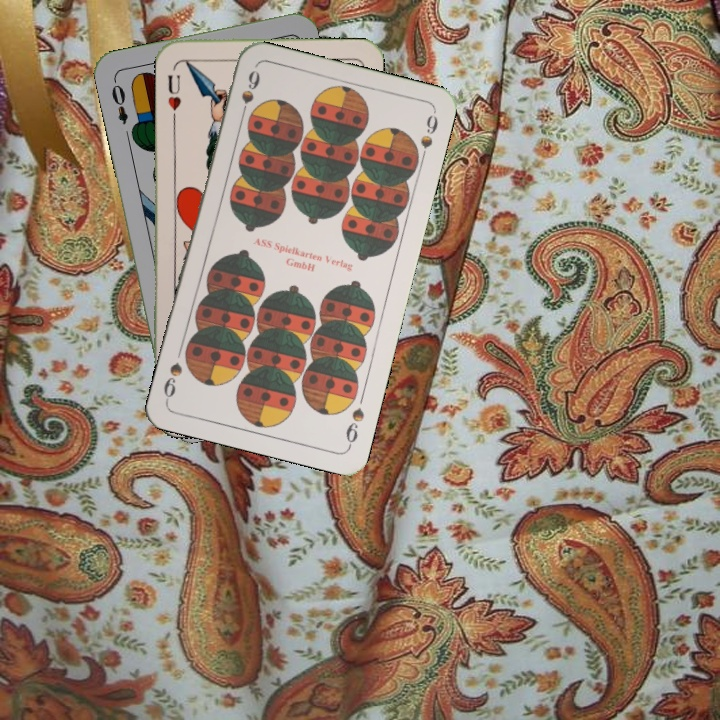EO: (107, 75, 131, 127)
HU: (164, 71, 184, 113)
S9: (236, 66, 263, 123), (341, 403, 367, 450)
